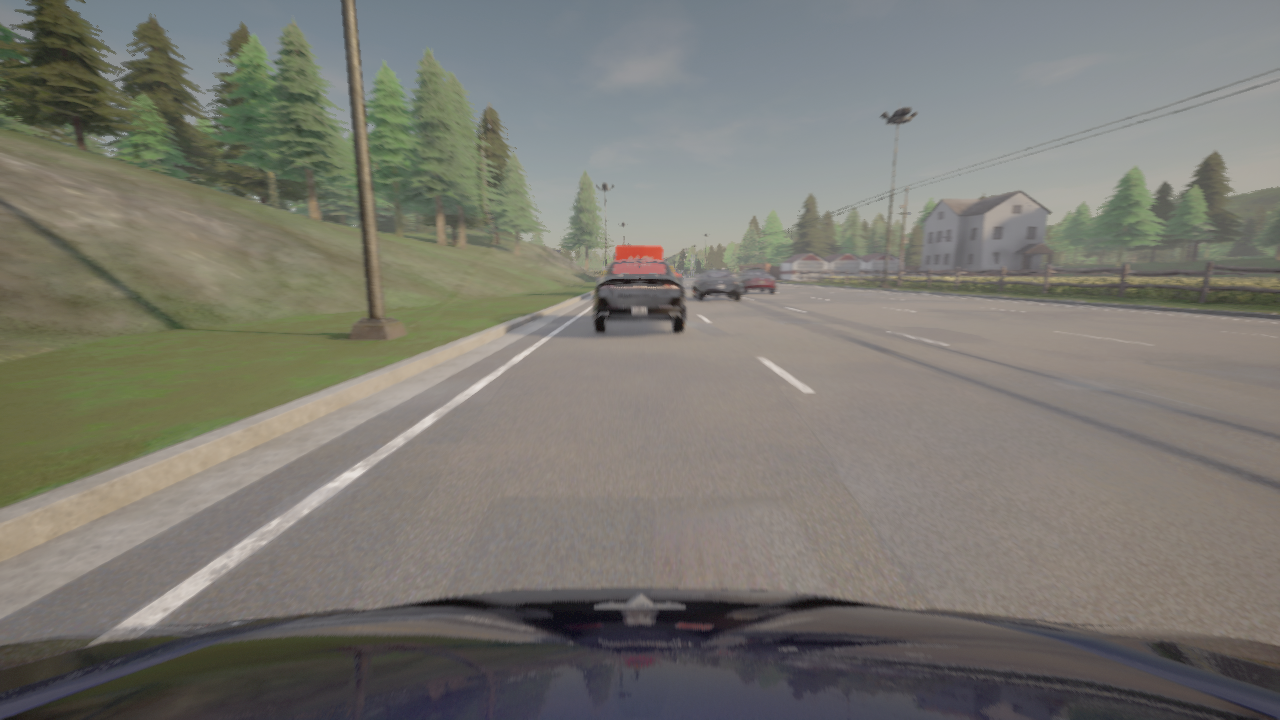cyclist: (0, 588, 1279, 719), (593, 260, 685, 332), (693, 270, 741, 300), (615, 246, 663, 261), (738, 268, 765, 287), (673, 269, 681, 283), (746, 278, 774, 280)
